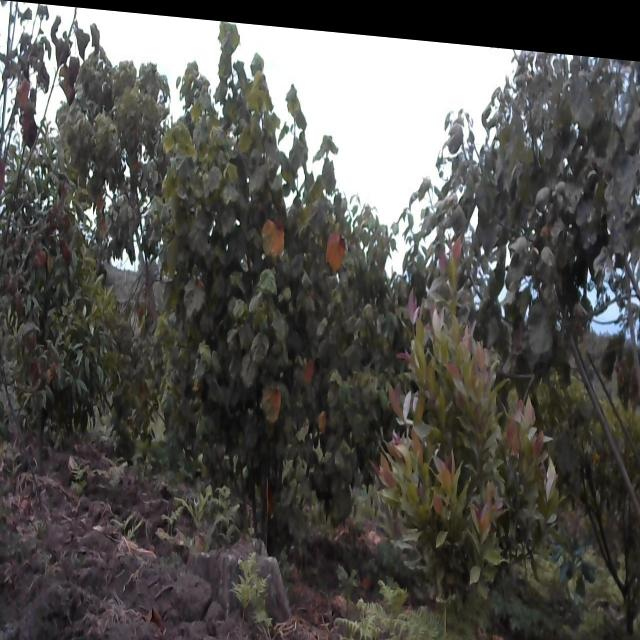Lemon Myrtle: (377, 218, 556, 640)
other: (158, 31, 404, 549), (409, 31, 640, 390), (0, 0, 108, 488), (64, 42, 166, 285)
